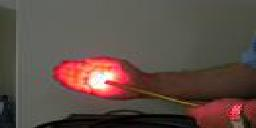LED: (50, 54, 138, 96)
